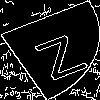Z: (25, 25, 91, 81)
